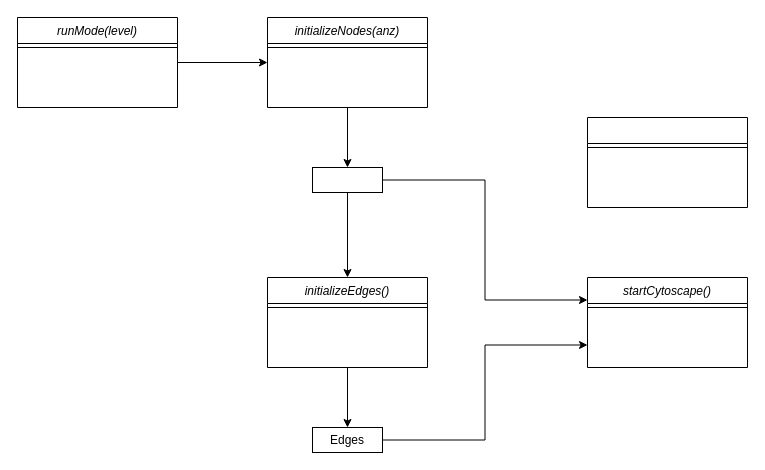
The diagram is 765 pixels wide and 470 high, and some of its shapes have lost their labels. Here are the shapes that lost their labels. From the top down, the box of each, then its label:
(312, 166, 382, 192): Nodes
(586, 116, 748, 208): destroyGame()
